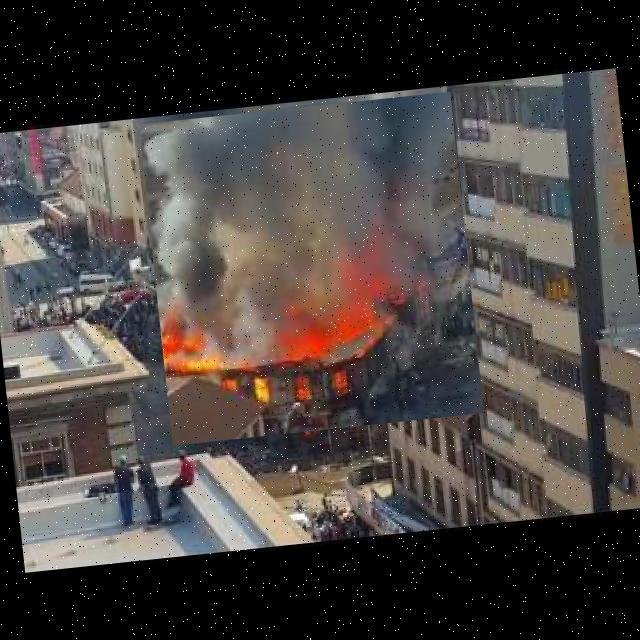fire: (138, 91, 484, 445)
